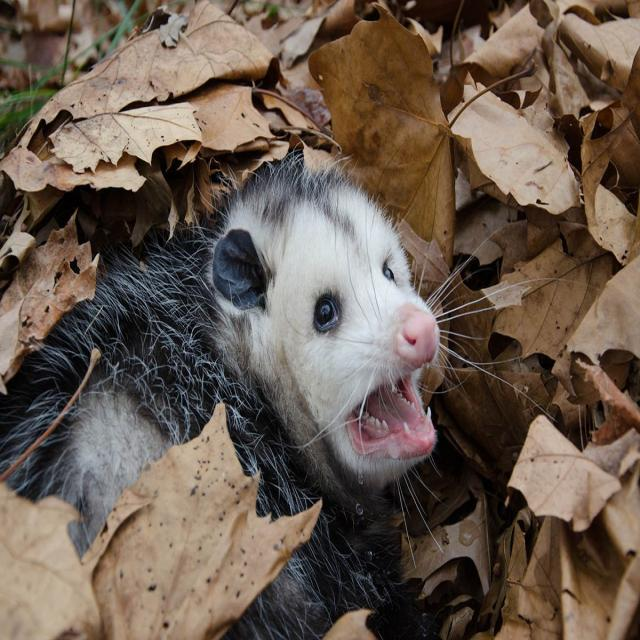Possum: (9, 143, 456, 634)
